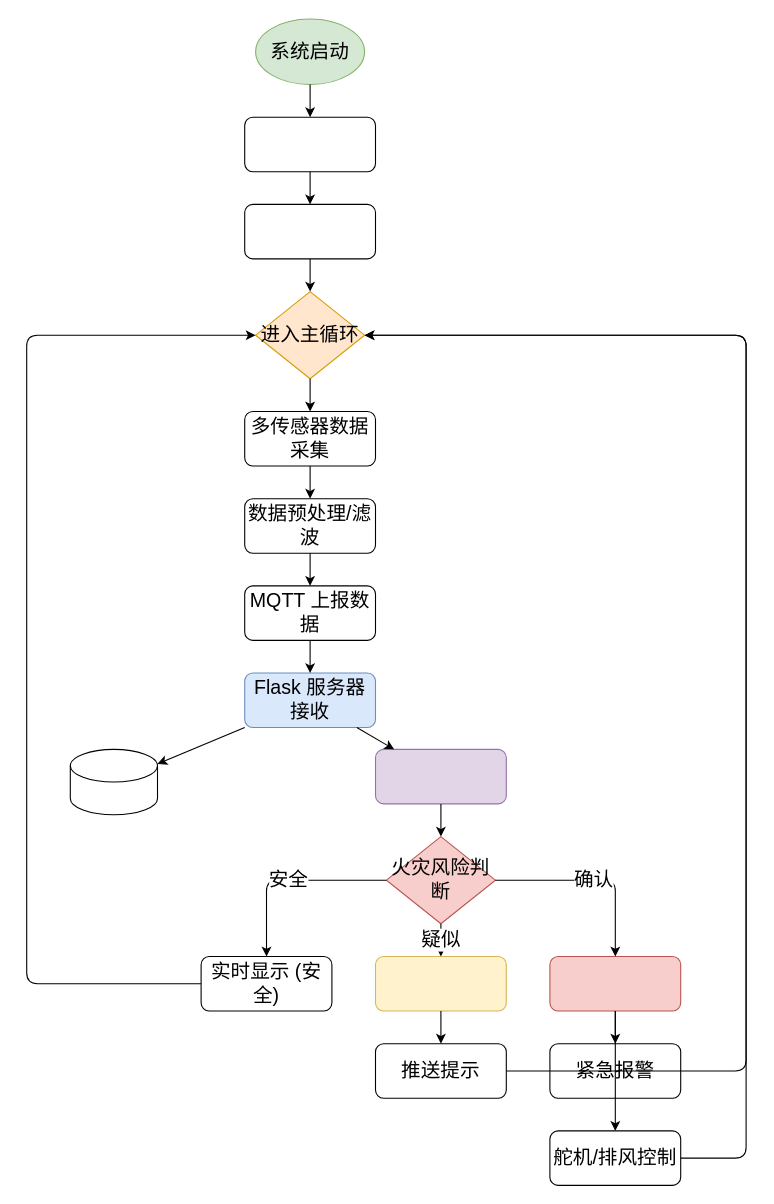
Some shapes in this 774 by 1204 pixel diagram are drawn without their labels. The box of each missing label's shape, as (x1, y1, x2, y2) in pixels:
CNN+LSTM 分析: (374, 748, 506, 804)
一级预警 (疑似): (374, 955, 506, 1011)
二级警报 (确认): (549, 955, 681, 1011)
存入 SQLite: (69, 748, 158, 815)
设备初始化 & 自检: (244, 116, 376, 172)
连接 WiFi & MQTT: (244, 203, 376, 259)
